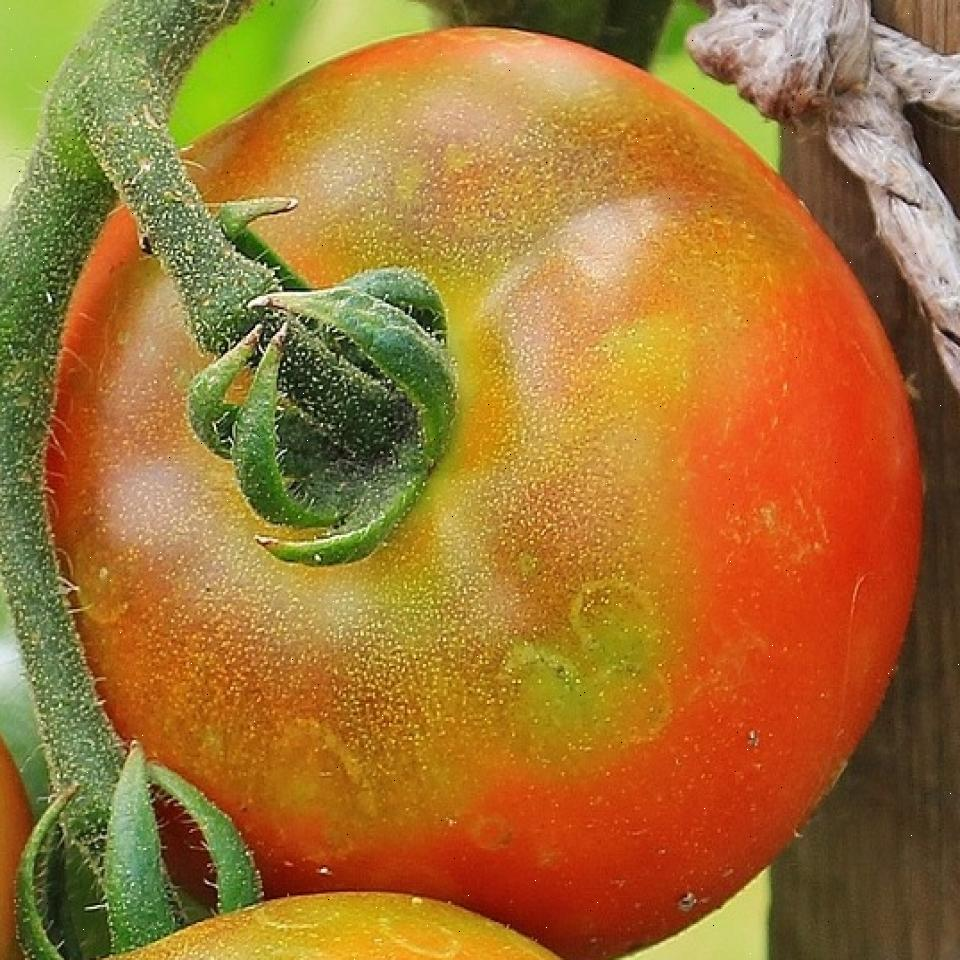Spotted wilt Virus: (45, 28, 919, 960)
